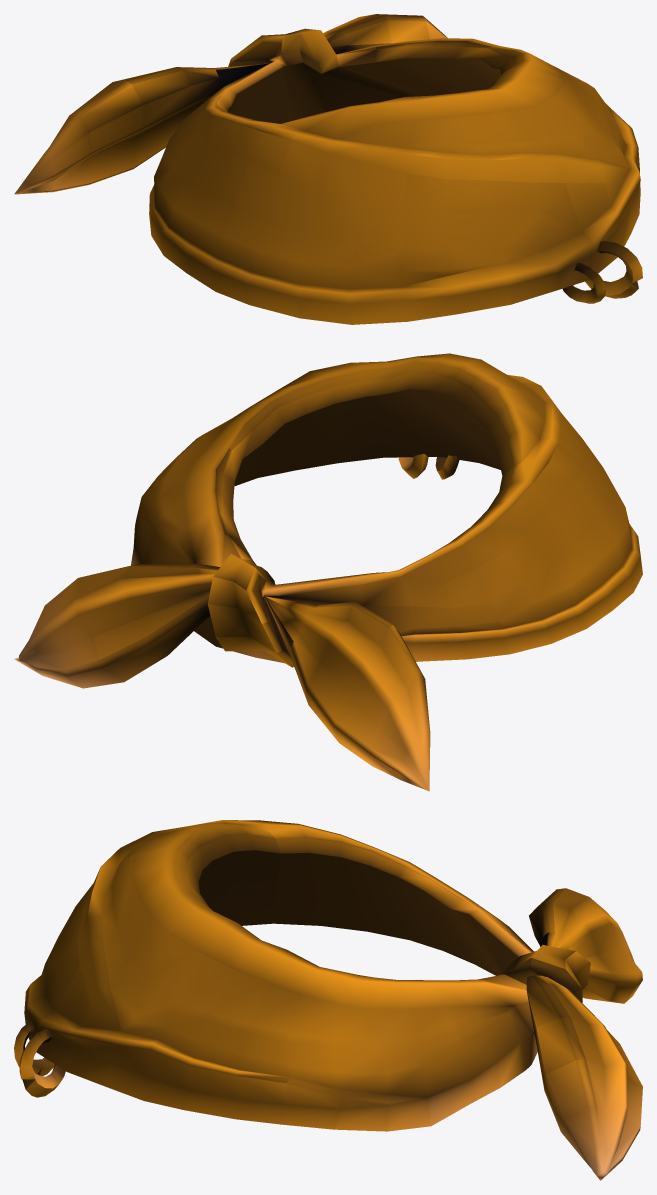
The model's file is Cap_Pirate_Bandana.gltf.
3 views of the same model, one above another, from view 1: azimuth 30°, elevation 25°; view 2: azimuth 150°, elevation 25°; view 3: azimuth 270°, elevation 25° (orthographic). The views are drawn at different scales.
Parts seen in each view (by area): view 1: Cap_Pirate_Bandana; view 2: Cap_Pirate_Bandana; view 3: Cap_Pirate_Bandana.
Part boxes in pixels (x1,y1,x2,y2): Cap_Pirate_Bandana: (14,14,642,324); Cap_Pirate_Bandana: (14,353,642,791); Cap_Pirate_Bandana: (14,820,642,1180).
Size of the model in its own units: 1.06 by 0.4942 by 1.26.
Materials: 2 (2 with a texture image).
